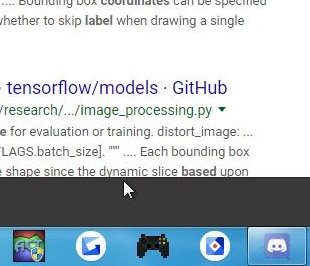cursor: (121, 178, 135, 201)
